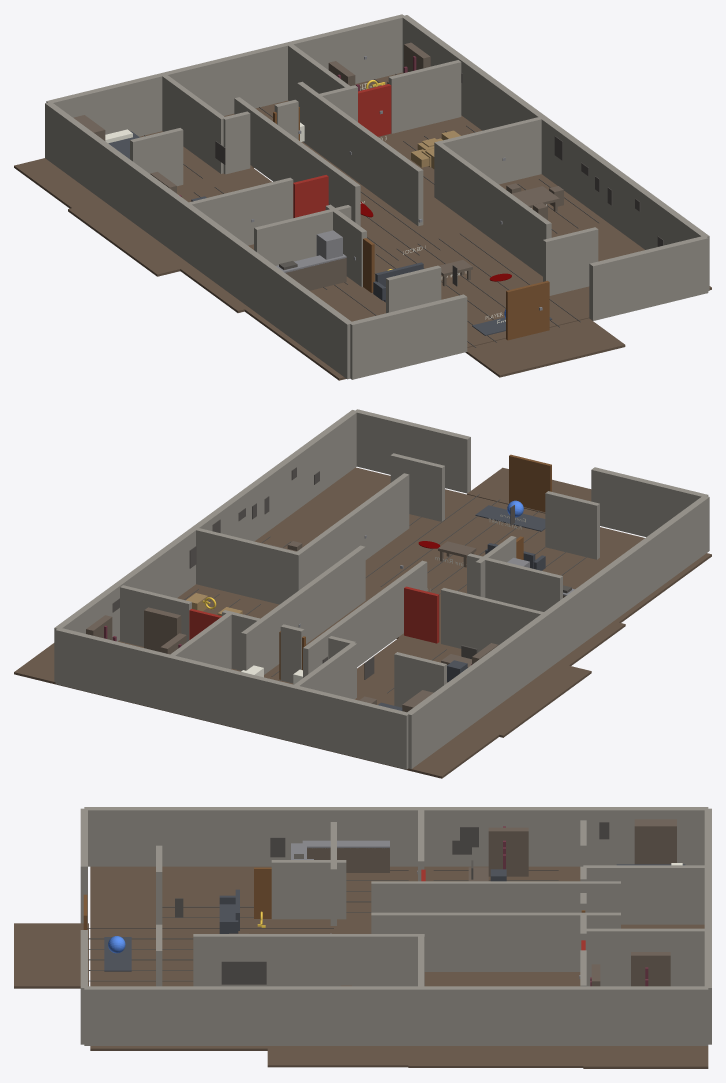
Rendered from MAP.fbx.
3 renders of one model, top to bottom at view 1: azimuth 30°, elevation 25°; view 2: azimuth 150°, elevation 25°; view 3: azimuth 270°, elevation 25°, orthographic. The views are drawn at different scales.
Parts seen in each view (by area): view 1: Exterior_Left_Wall, Exterior_Top_Wall, Exterior_Right_Wall, Living Room_Floor, Hallway_Right_Wall, Exterior_Bottom_Right, Exterior_Bottom_Left, Living_Dining_Divider, Office_Floor, Hallway_Left_Wall, Entrance_Floor, Dining Room_Floor (+24 smaller); view 2: Exterior_Top_Wall, Exterior_Left_Wall, Living Room_Floor, Exterior_Right_Wall, Hallway_Right_Wall, Office_Floor, Living_Dining_Divider, Dining_Storage_Wall, Exterior_Bottom_Right, Exterior_Bottom_Left, Hallway_Left_Wall, Kitchen_Office_Wall (+21 smaller); view 3: Exterior_Right_Wall, Exterior_Left_Wall, Living Room_Floor, Hallway_Right_Wall, Living_Dining_Divider, Hallway_Left_Wall, Storage_Floor, Bedroom_Bathroom_Divider, Bathroom_Library_Divider, Entrance_Floor, Living_Kitchen_Divider, Dining Room_Floor (+18 smaller).
Boxes of the visible parts, x1,y1,x2,y2 form: Exterior_Left_Wall: [45, 102, 352, 379]; Exterior_Top_Wall: [46, 14, 405, 136]; Exterior_Right_Wall: [402, 15, 709, 290]; Living Room_Floor: [244, 227, 711, 380]; Hallway_Right_Wall: [297, 81, 423, 226]; Exterior_Bottom_Right: [589, 236, 708, 320]; Exterior_Bottom_Left: [350, 294, 467, 379]; Living_Dining_Divider: [434, 142, 551, 276]; Office_Floor: [68, 166, 271, 276]; Hallway_Left_Wall: [234, 97, 360, 226]; Entrance_Floor: [465, 318, 625, 377]; Dining Room_Floor: [421, 177, 613, 262]; Exterior_Top_Wall: [55, 627, 409, 769]; Exterior_Left_Wall: [407, 495, 709, 768]; Living Room_Floor: [271, 467, 711, 622]; Exterior_Right_Wall: [54, 410, 357, 682]; Hallway_Right_Wall: [241, 545, 365, 674]; Office_Floor: [357, 634, 591, 737]; Living_Dining_Divider: [293, 473, 409, 593]; Dining_Storage_Wall: [193, 527, 298, 604]; Exterior_Bottom_Right: [356, 409, 470, 493]; Exterior_Bottom_Left: [591, 467, 708, 536]; Hallway_Left_Wall: [303, 560, 427, 677]; Kitchen_Office_Wall: [441, 588, 546, 652]; Exterior_Right_Wall: [84, 986, 708, 1045]; Exterior_Left_Wall: [84, 807, 708, 866]; Living Room_Floor: [90, 866, 285, 1050]; Hallway_Right_Wall: [371, 912, 620, 971]; Living_Dining_Divider: [193, 934, 424, 986]; Hallway_Left_Wall: [371, 881, 620, 912]; Storage_Floor: [408, 972, 583, 1067]; Bedroom_Bathroom_Divider: [583, 865, 704, 924]; Bathroom_Library_Divider: [583, 928, 704, 986]; Entrance_Floor: [14, 923, 88, 988]; Living_Kitchen_Divider: [271, 860, 346, 919]; Dining Room_Floor: [267, 1046, 408, 1067].
Bounding box in the file's own units: 2092 × 261 × 2797.
